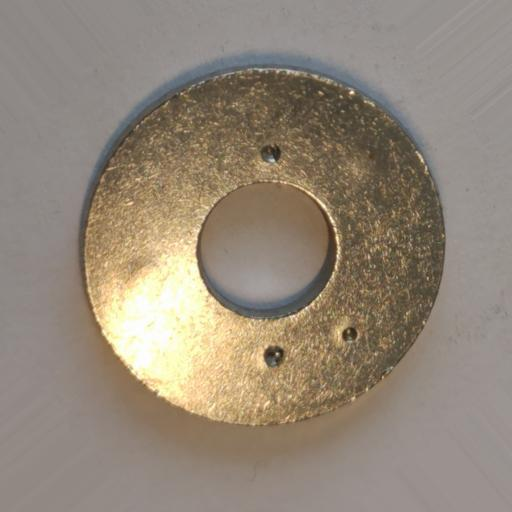circular_cavity: (262, 346, 285, 368), (260, 143, 281, 163), (343, 327, 359, 344)
